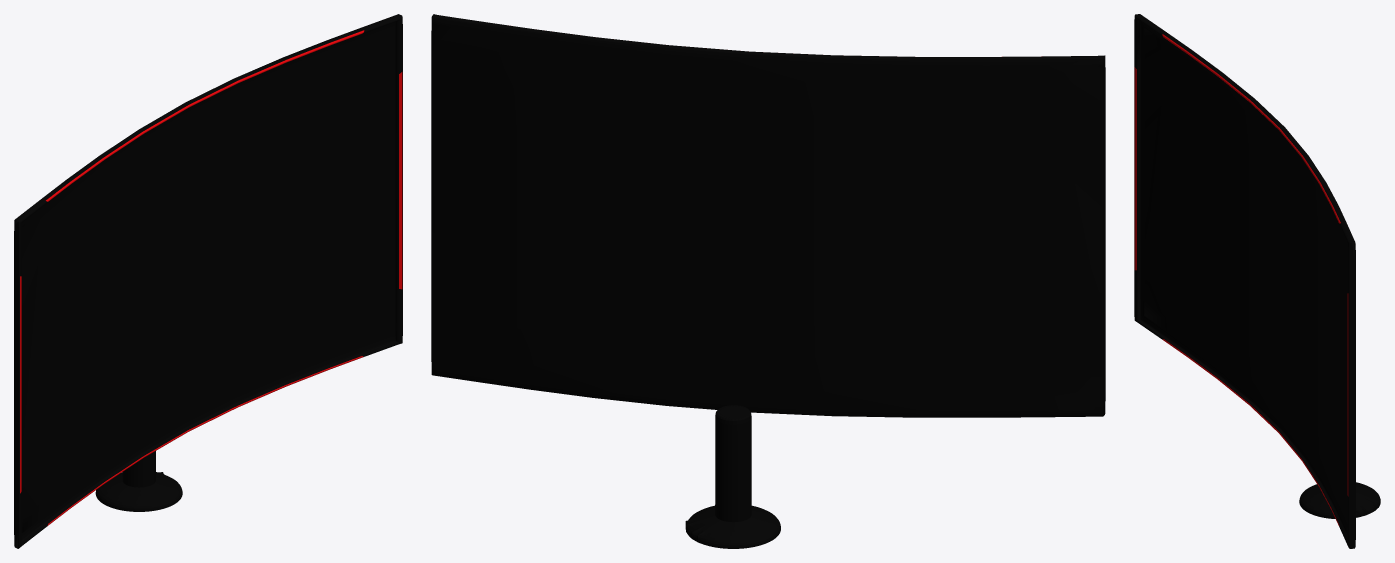
Rendered from left_monitor-BCutl49t.glb.
3 renders of one model, left to right at view 1: azimuth 30°, elevation 25°; view 2: azimuth 150°, elevation 25°; view 3: azimuth 270°, elevation 25°, orthographic. The views are drawn at different scales.
Visible parts, largest first — view 1: StudyShelf_183; view 2: StudyShelf_183; view 3: StudyShelf_183.
Boxes of the visible parts, x1,y1,x2,y2 form: StudyShelf_183: (14, 14, 402, 548); StudyShelf_183: (431, 14, 1105, 548); StudyShelf_183: (1134, 14, 1380, 548).
Bounding box in the file's own units: 127 × 99.42 × 58.04.
